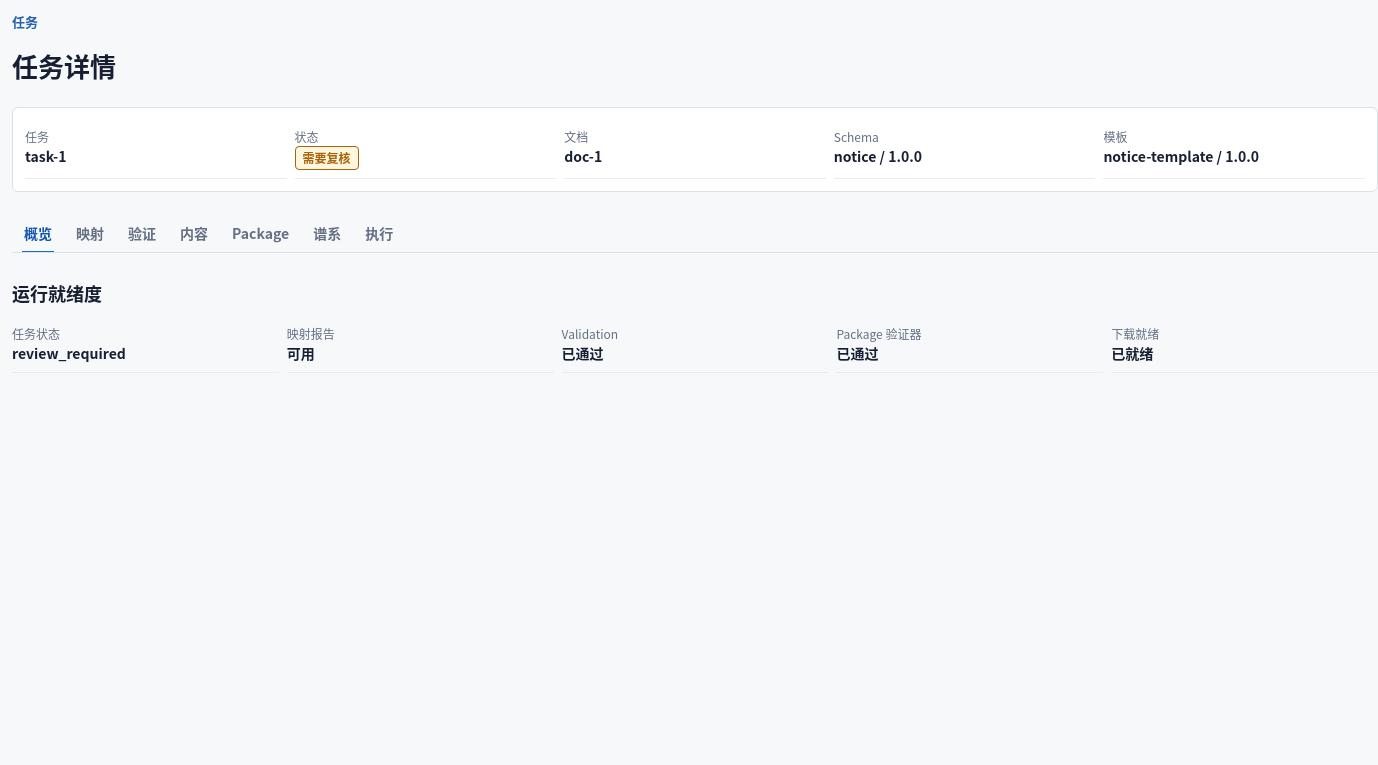
Scenario: TaskDetailPage › loads task audit logs independently and renders audit events
The image size is (1378, 765).
Expected: the text "task-1" is shown, [25, 146, 66, 166]
Click the tab "执行".
click(379, 234)  # box [353, 216, 405, 252]
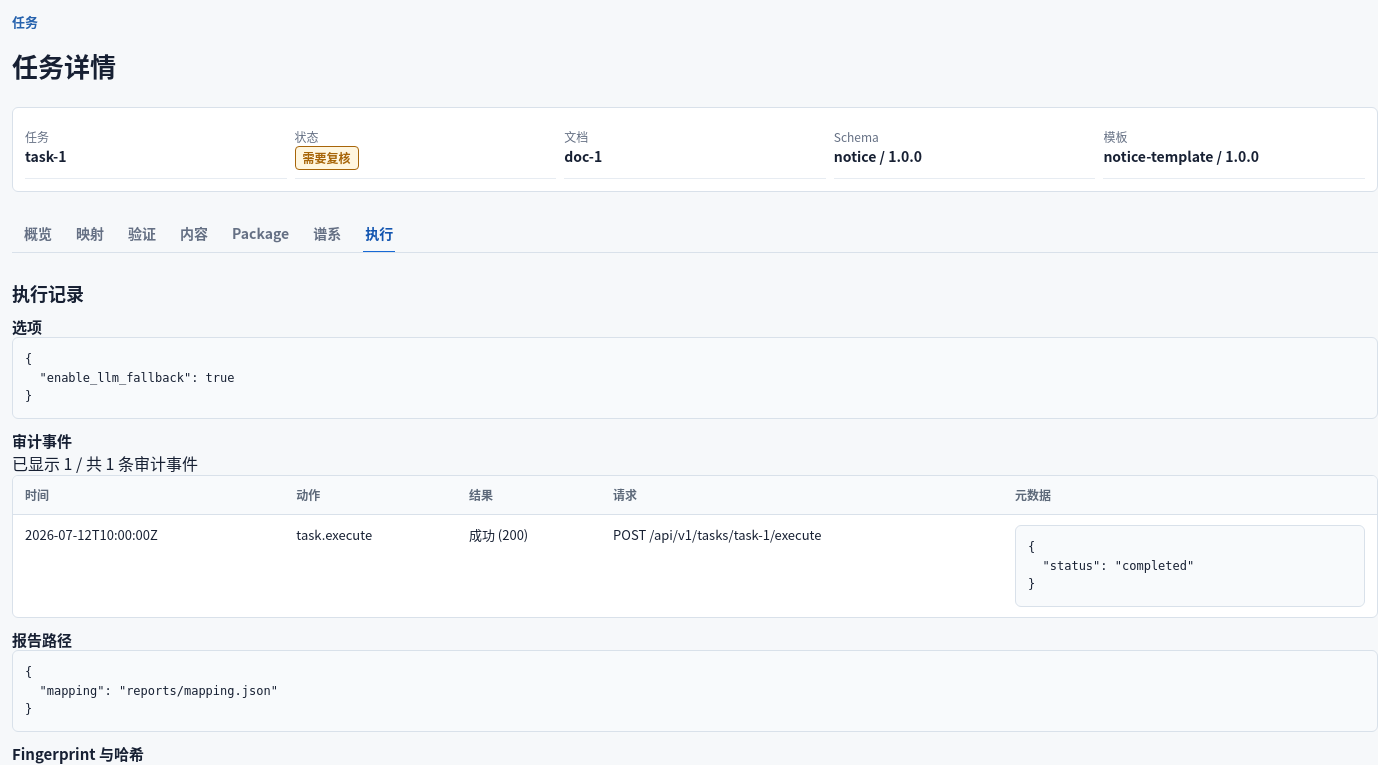
Now the text "task.execute" is shown, box [284, 515, 457, 617]
